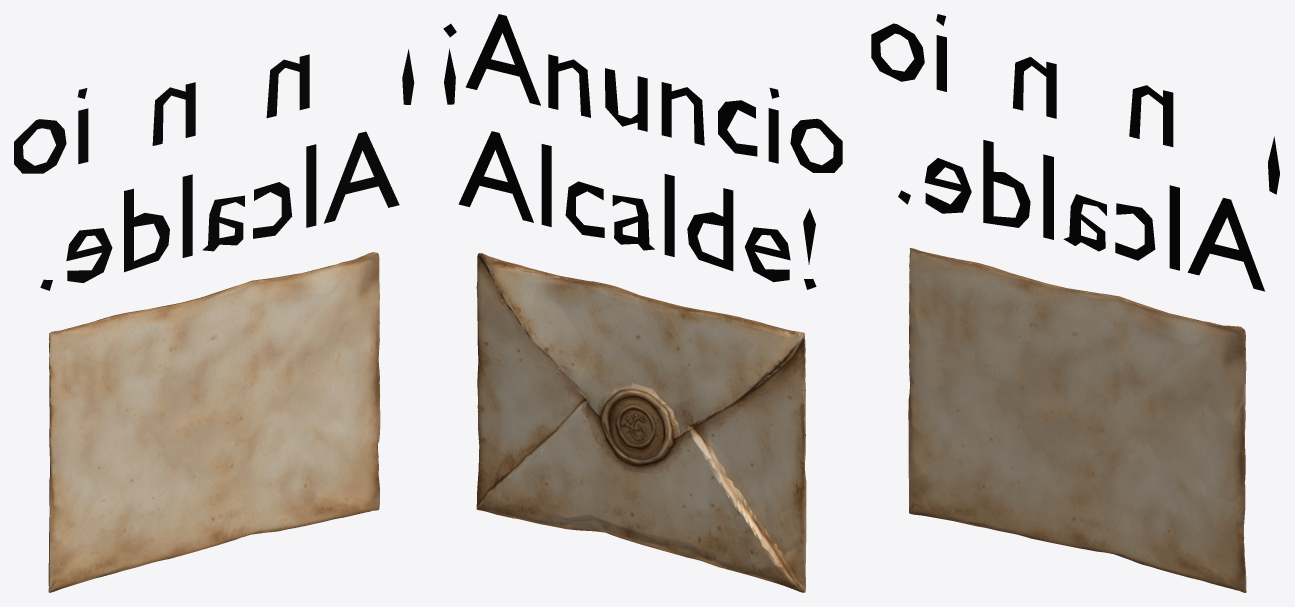
Rendered from Card_LOD1.glb.
3 renders of one model, left to right at view 1: azimuth 30°, elevation 25°; view 2: azimuth 150°, elevation 25°; view 3: azimuth 330°, elevation 25°, orthographic. The views are drawn at different scales.
Parts seen in each view (by area): view 1: Card, Text; view 2: Card, Text; view 3: Card, Text.
Part boxes in pixels (bbox=[...]): Card: bbox=[48, 252, 380, 592]; Text: bbox=[14, 49, 414, 290]; Card: bbox=[476, 253, 806, 592]; Text: bbox=[443, 14, 842, 289]; Card: bbox=[908, 248, 1246, 592]; Text: bbox=[871, 14, 1279, 291].
Bounding box in the file's own units: 0.5277 × 0.6352 × 0.0216.
Materials: 2 (1 with a texture image).
